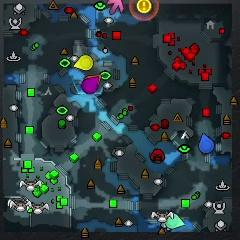Other: (137, 0, 152, 14)
p1: (199, 134, 214, 153)
p2: (165, 213, 185, 228)
p3: (81, 77, 99, 94)
p4: (74, 55, 93, 70)
p5: (85, 75, 102, 85)
x1: (106, 0, 124, 14)
